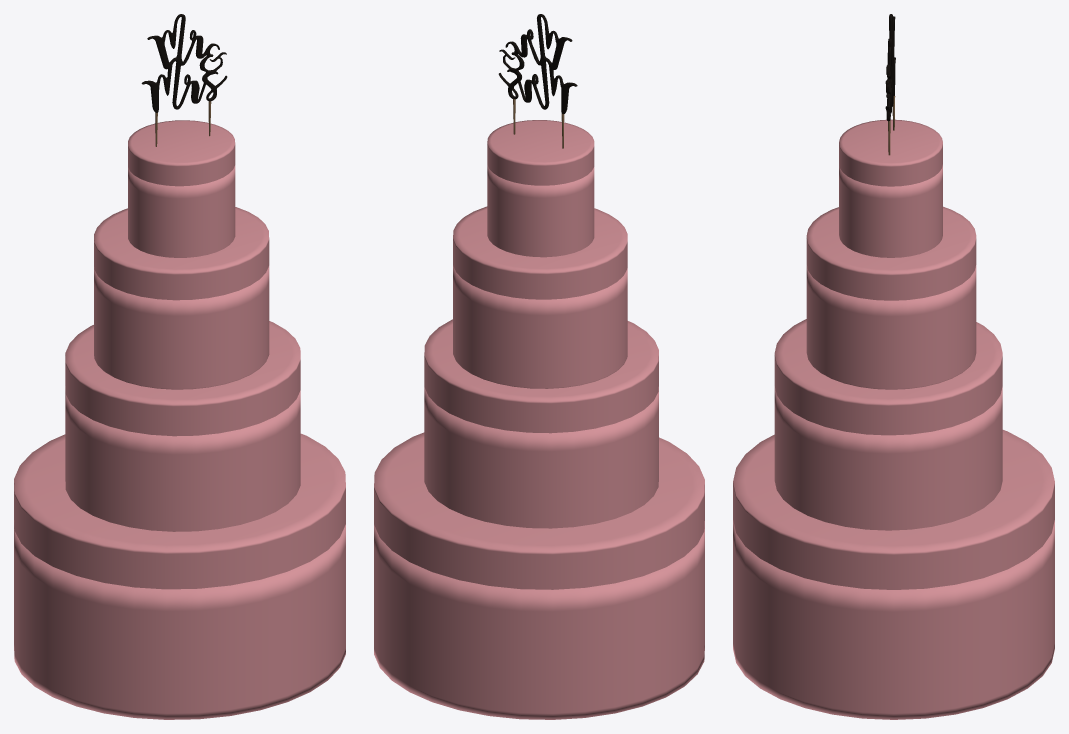
The model's file is 4-tier-blush-none-mrms.glb.
The picture shows the model from 3 angles, left to right: view 1: azimuth 30°, elevation 25°; view 2: azimuth 150°, elevation 25°; view 3: azimuth 270°, elevation 25°; orthographic projection.
Parts seen in each view (by area): view 1: 3.001, 3, 2, 1, mrms.002; view 2: 3.001, 3, 2, 1, mrms.002; view 3: 3.001, 3, 2, 1, mrms.002.
Boxes of the visible parts, left/top/right/bottom form: 3.001: left=14, top=433, right=345, bottom=719; 3: left=65, top=321, right=300, bottom=531; 2: left=94, top=207, right=269, bottom=389; 1: left=128, top=120, right=235, bottom=257; mrms.002: left=141, top=14, right=227, bottom=146; 3.001: left=374, top=432, right=704, bottom=719; 3: left=424, top=319, right=658, bottom=528; 2: left=453, top=206, right=627, bottom=388; 1: left=487, top=120, right=594, bottom=257; mrms.002: left=498, top=14, right=577, bottom=148; 3.001: left=733, top=430, right=1054, bottom=719; 3: left=774, top=319, right=1002, bottom=530; 2: left=806, top=206, right=976, bottom=389; 1: left=839, top=119, right=942, bottom=257; mrms.002: left=885, top=14, right=895, bottom=155.
Size of the model in its own units: 4.43 by 9.28 by 4.27.
